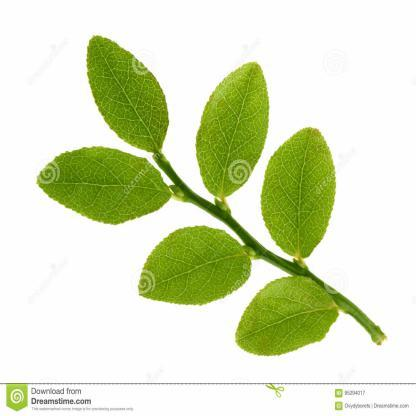Blueberry leaf: (196, 38, 273, 217), (264, 123, 343, 275), (27, 148, 177, 226), (124, 227, 260, 310), (83, 25, 171, 153), (229, 275, 348, 357)
